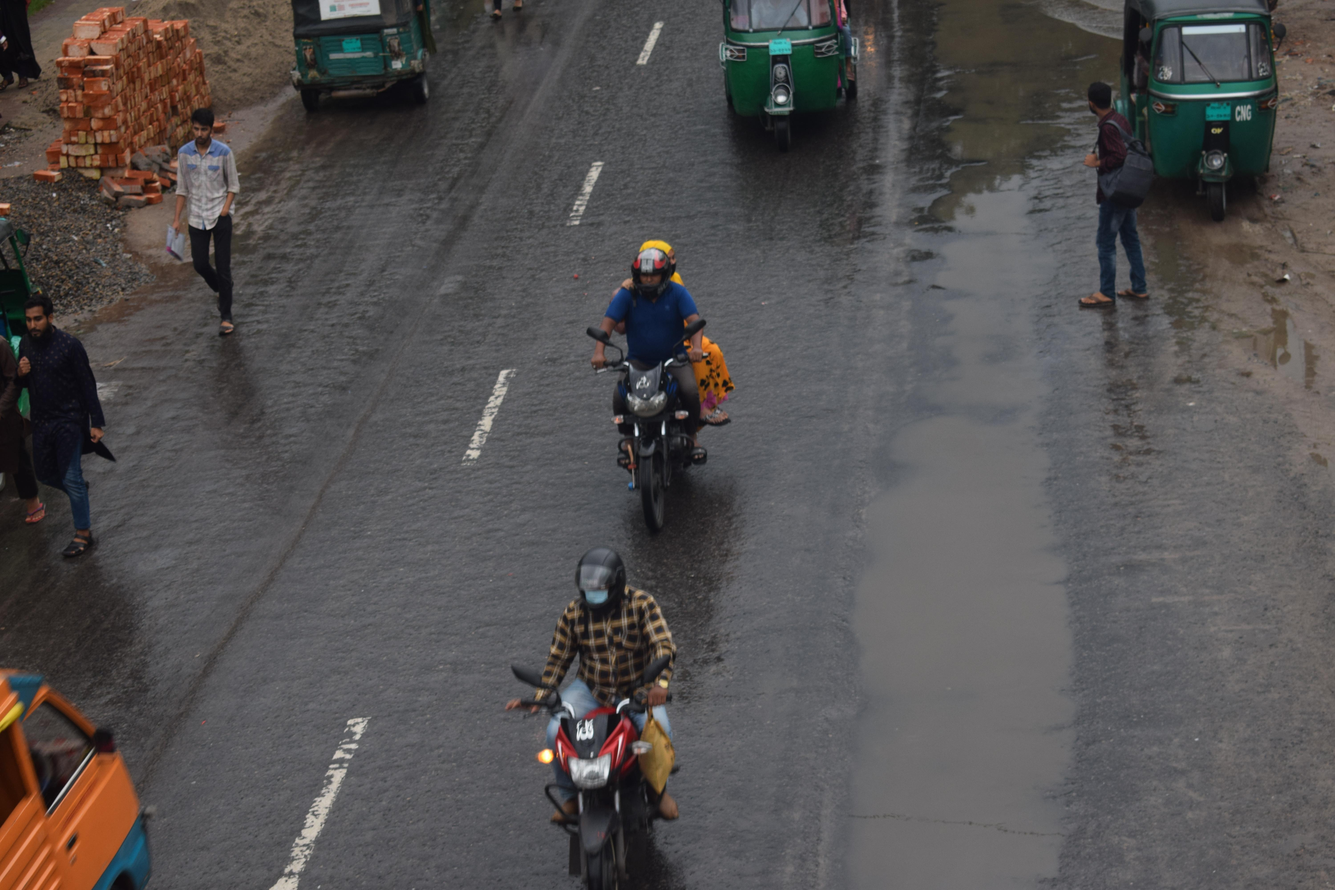Bike: (455, 480, 751, 890), (540, 188, 784, 564)
